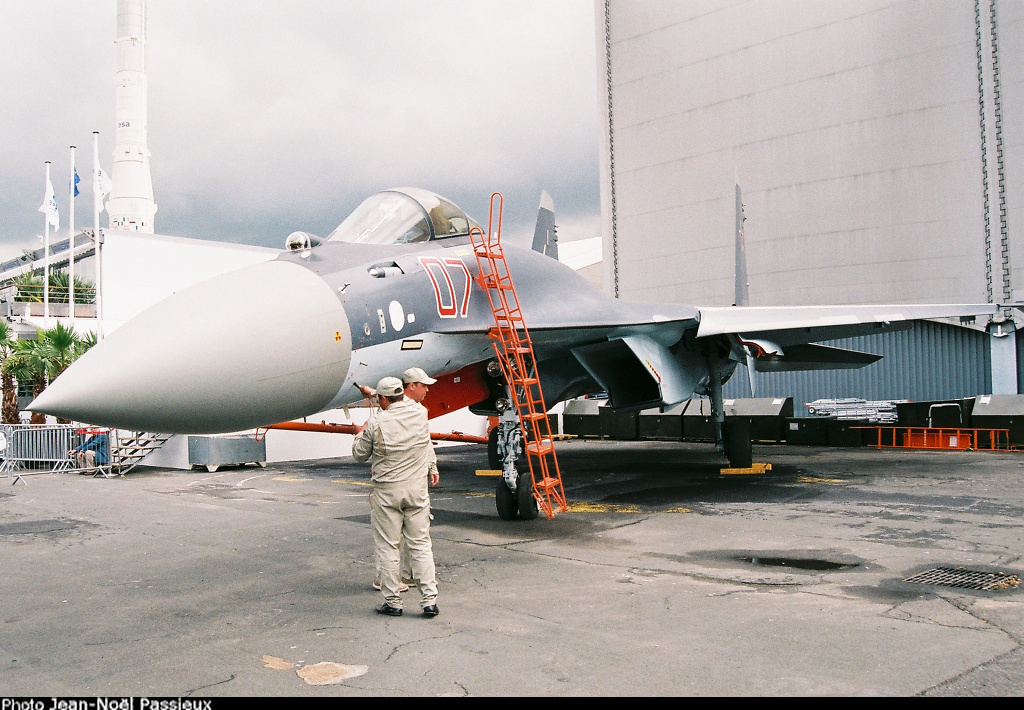Su35: (17, 176, 1024, 526)
